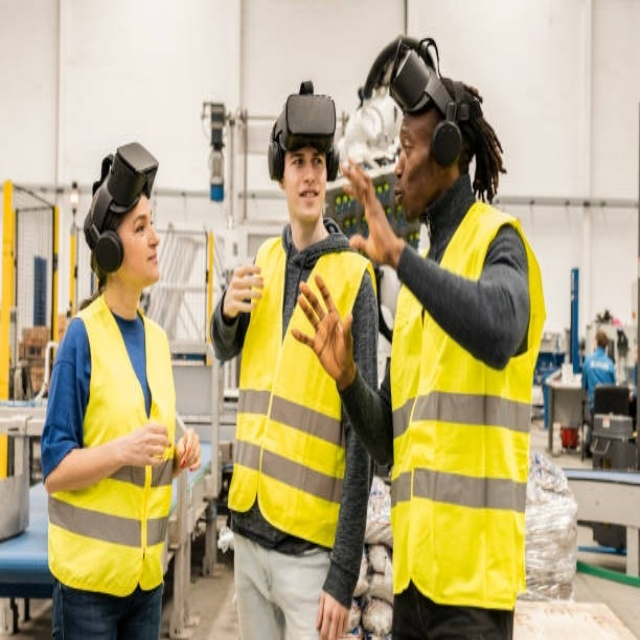Sin_gafas: (125, 203, 156, 234), (398, 128, 427, 158), (285, 148, 326, 166)
Sin_guantes: (290, 273, 356, 385), (340, 158, 401, 263), (314, 587, 356, 640), (124, 419, 172, 465), (228, 263, 265, 316), (173, 425, 201, 473)
Sin_mascara: (391, 180, 414, 216), (139, 244, 163, 274), (296, 183, 322, 209)
